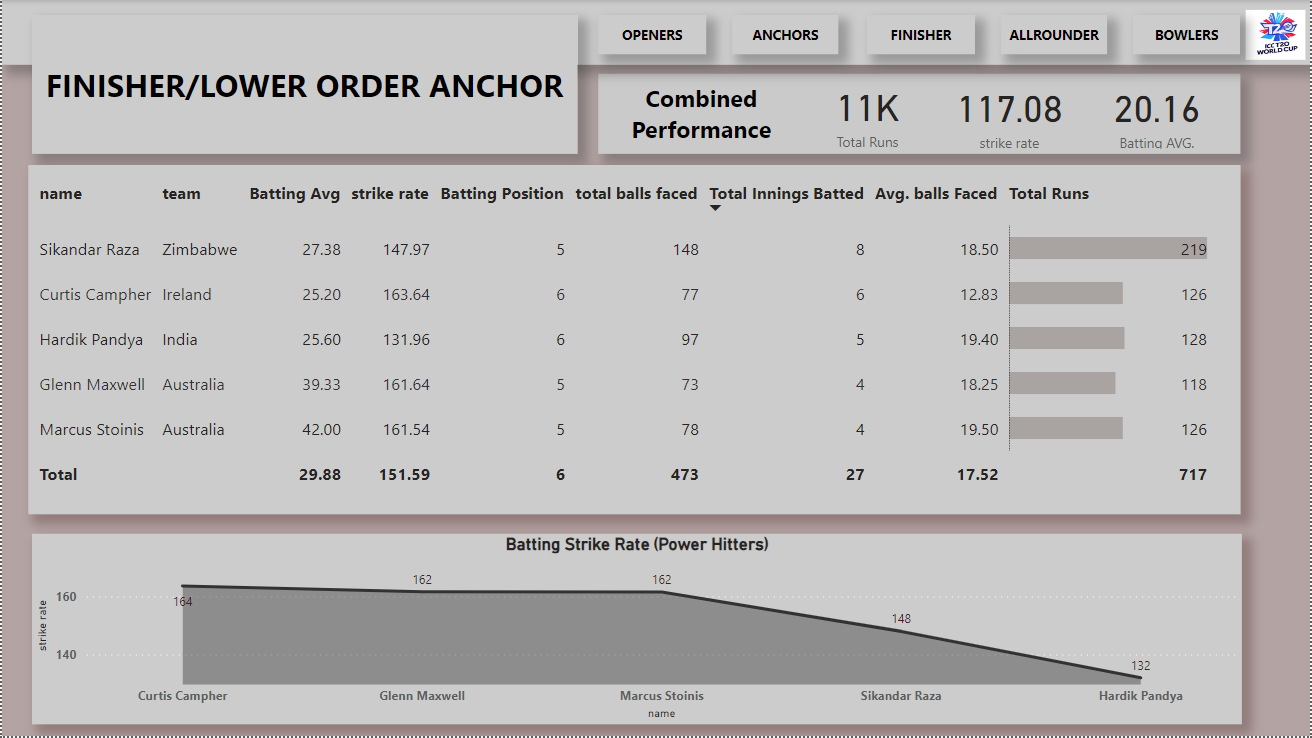

This screenshot's page, from the dashboard's own definition file:
{"tool":"powerbi","page":{"name":"Finishers","canvas":[1280,720],"ordinal":2},"visuals":[{"type":"shape","box":[583.1,72.1,628.3,78.2],"z":0},{"type":"card","fields":{"Values":["Key Measures.Batting Avg"]},"box":[1065.9,73.3,127.1,77],"z":1000},{"type":"shape","box":[588,74.6,191.9,72.1],"z":2000},{"type":"card","fields":{"Values":["Key Measures.strike rate"]},"box":[925.4,73.3,119.8,77],"z":3000},{"type":"card","fields":{"Values":["Key Measures.Total Runs"]},"box":[779.9,72.1,133.2,78.2],"z":4000},{"type":"shape","box":[0,0,1279.9,63.6],"z":5000},{"type":"image","box":[1211.4,4.9,68.5,58.7],"z":6000},{"type":"shape","box":[582.7,15.1,105.6,38.4],"z":7000},{"type":"shape","box":[714.3,15.1,104.2,38.4],"z":8000},{"type":"shape","box":[845.9,15.1,105.6,38.4],"z":9000},{"type":"shape","box":[976.2,15.1,104.2,38.4],"z":10000},{"type":"shape","box":[1106.4,15.1,104.2,38.4],"z":11000},{"type":"shape","box":[28.8,15.1,533.3,135.7],"z":12000},{"type":"tableEx","title":"Openers/Power Hitters","fields":{"Values":["Information.name","Information.team","Key Measures.Batting Avg","Key Measures.Strike rate","Key Measures.Batting Position","Key Measures.total balls faced","Key Measures.Total Innings Batted","Key Measures.Avg. balls Faced","Key Measures.Total Runs"]},"box":[26,161.8,1186,341.4],"z":13000},{"type":"areaChart","title":"Batting Strike Rate (Power Hitters)","fields":{"Category":["Information.name"],"Y":["Key Measures.strike rate"]},"box":[28.8,522.4,1183.2,186.5],"z":14000}]}

Visuals, with their boxes in screenshot pixels (x1, y1, x2, y2), scaled from the page's 1280x720 canvas onto the 1312x738 screenshot:
shape: {"left": 598, "top": 74, "right": 1242, "bottom": 154}
card - Key Measures.Batting Avg: {"left": 1093, "top": 75, "right": 1223, "bottom": 154}
shape: {"left": 603, "top": 76, "right": 799, "bottom": 150}
card - Key Measures.strike rate: {"left": 949, "top": 75, "right": 1071, "bottom": 154}
card - Key Measures.Total Runs: {"left": 799, "top": 74, "right": 936, "bottom": 154}
shape: {"left": 0, "top": 0, "right": 1311, "bottom": 65}
image: {"left": 1242, "top": 5, "right": 1311, "bottom": 65}
shape: {"left": 597, "top": 15, "right": 706, "bottom": 55}
shape: {"left": 732, "top": 15, "right": 839, "bottom": 55}
shape: {"left": 867, "top": 15, "right": 975, "bottom": 55}
shape: {"left": 1001, "top": 15, "right": 1107, "bottom": 55}
shape: {"left": 1134, "top": 15, "right": 1241, "bottom": 55}
shape: {"left": 30, "top": 15, "right": 576, "bottom": 155}
"Openers/Power Hitters" tableEx: {"left": 27, "top": 166, "right": 1242, "bottom": 516}
"Batting Strike Rate (Power Hitters)" areaChart: {"left": 30, "top": 535, "right": 1242, "bottom": 727}
